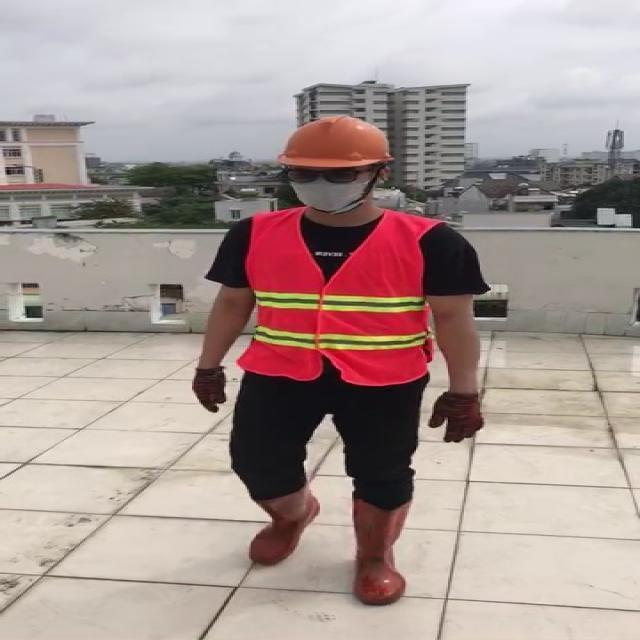gloves: (426, 388, 487, 445), (189, 364, 229, 415)
goggles: (282, 163, 377, 186)
helmet: (268, 113, 399, 169)
safety_vest: (245, 211, 434, 380)
